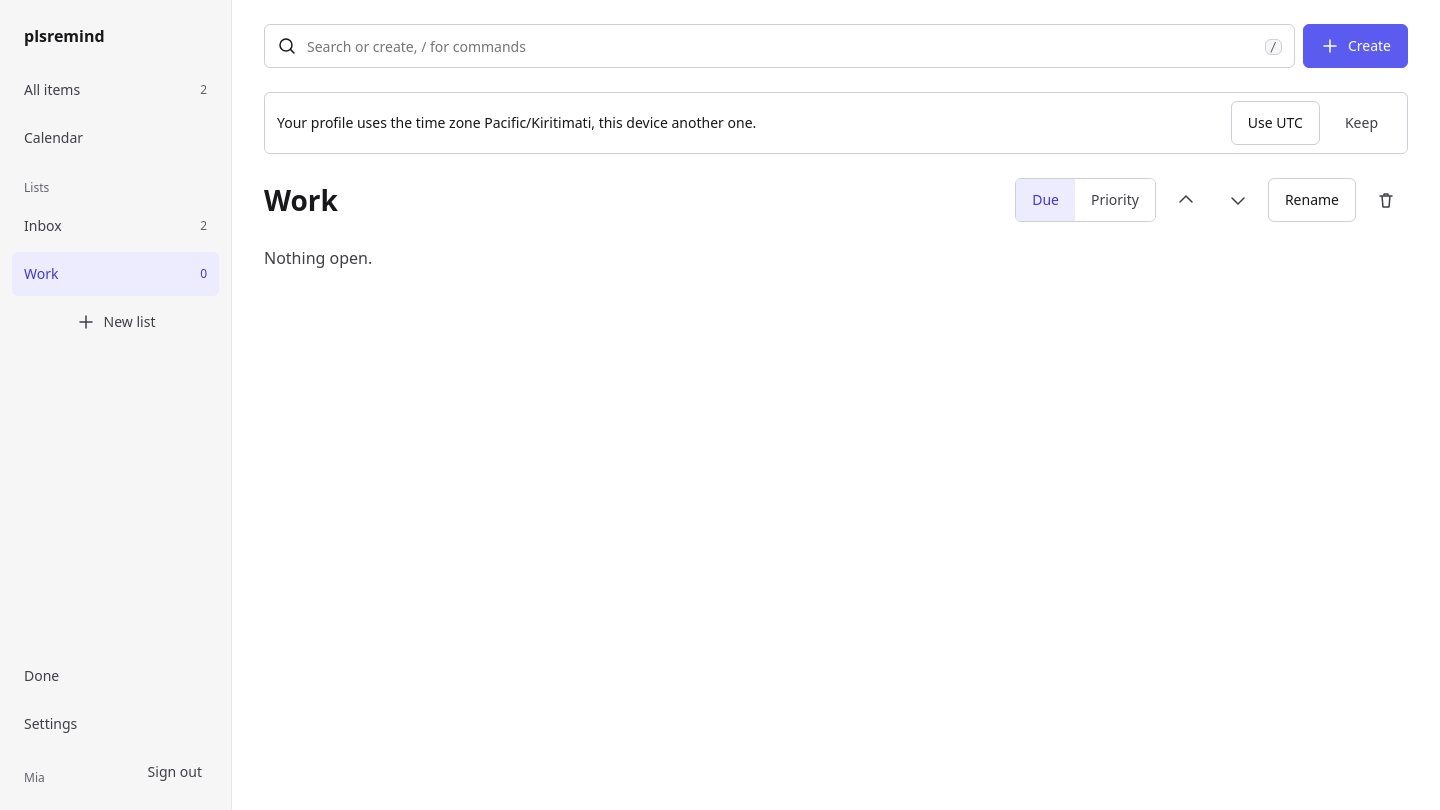
Scenario: a write refused for want of a login leads to the login
Click the button "Use UTC". click: (1275, 123)
box: [1231,101,1320,145]
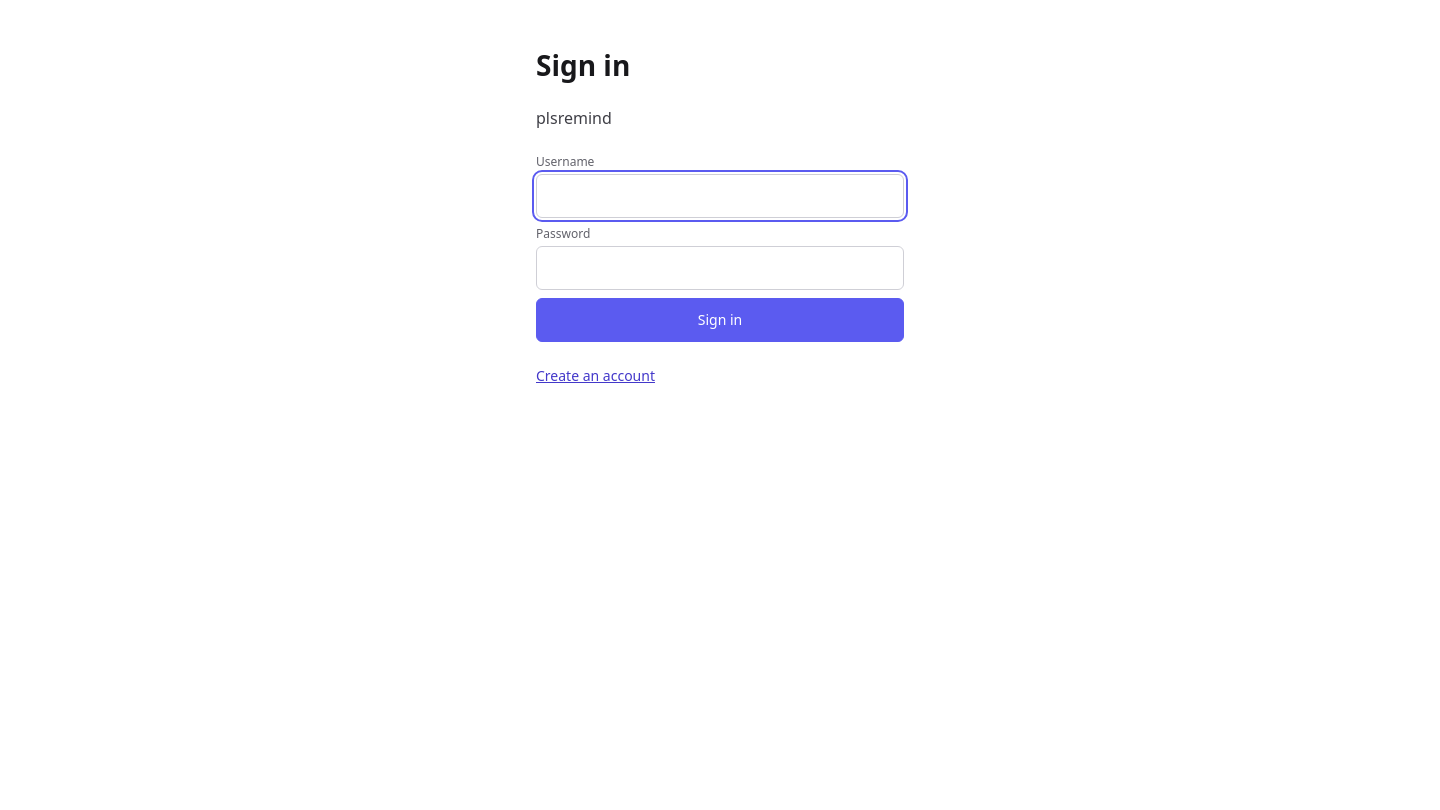
Expected: the field labelled "Username" is shown, [536,174,904,218]
